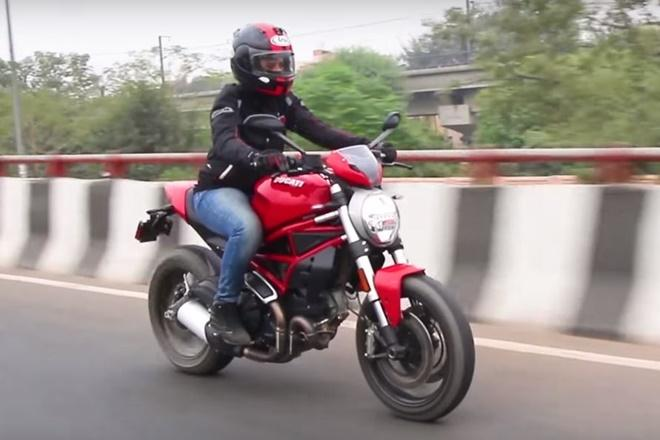with_helmet: (229, 21, 294, 100)
